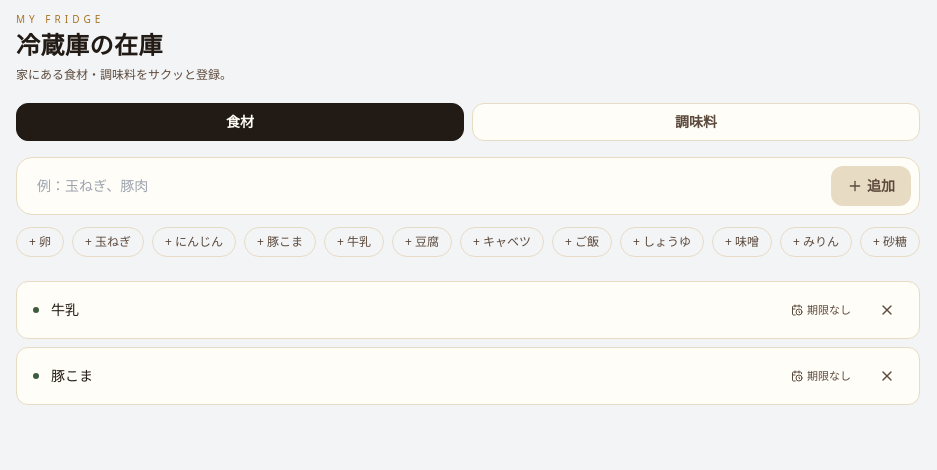
it: FridgeView — changing an expiry › opens the field for one ingredient at a time
Click the button with aria-label "豚こま の賞味期限を変更" at (821, 376), box [783,364,859,388]
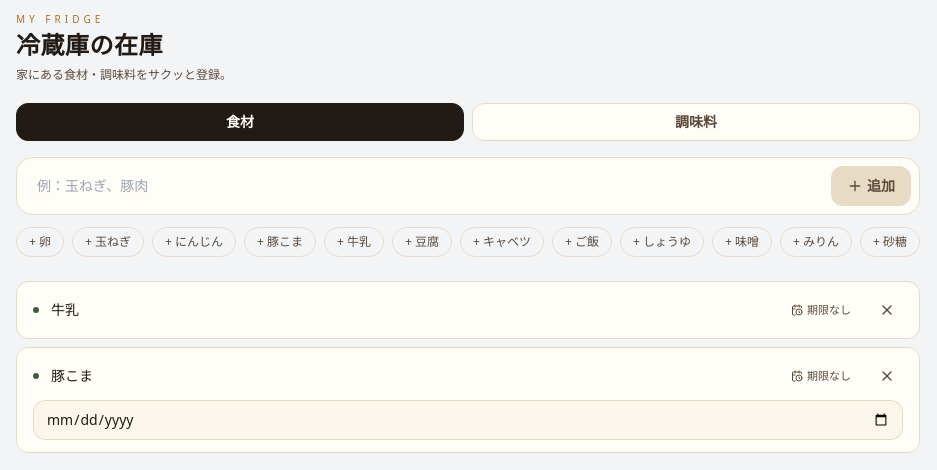
Expected: the date field named "豚こま の賞味期限" is shown, [33,400,903,440]
